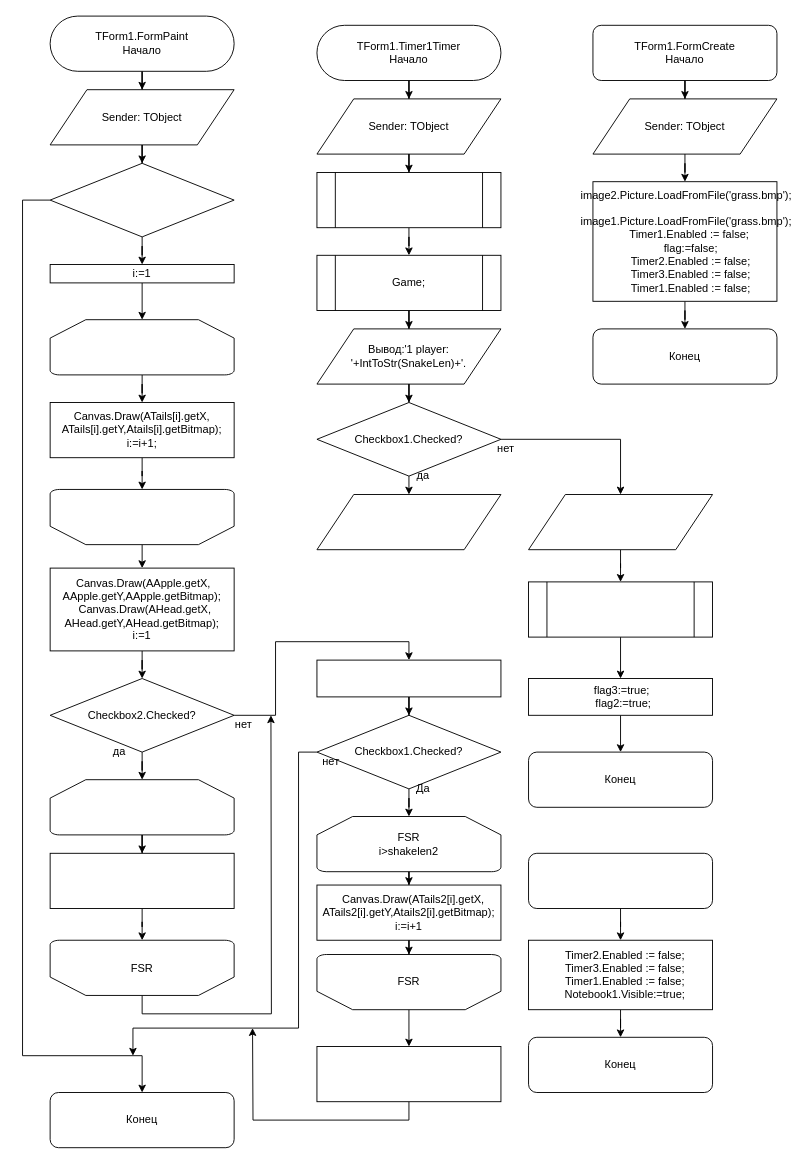
Some shapes in this 808 by 1164 pixel diagram are drawn without their labels. Each missing label, with the centre of its shape:
"(flag=true)" belongs at point (141, 199).
"Canvas.Draw(AHead2.getX, AHead2.getY,AHead2.getBitmap);" belongs at point (408, 1074).
"Canvas.Draw(AWall[i].getX, AWall[i].getY,AWall[i].getBitmap) i:=i+1;" belongs at point (141, 880).
"FSH" belongs at point (141, 517).
"FSH i>ShakeLen" belongs at point (141, 347).
"FSR i>30" belongs at point (141, 807).
"I:=1;" belongs at point (408, 678).
"MoveSnake;" belongs at point (408, 200).
"Refresh;" belongs at point (620, 609).
"TForm1.pause Начало" belongs at point (620, 880).
"Вывод:' '" belongs at point (620, 522).
"Вывод:'2 player: ' +IntToStr(SnakeLen2)+'.'" belongs at point (408, 522).
